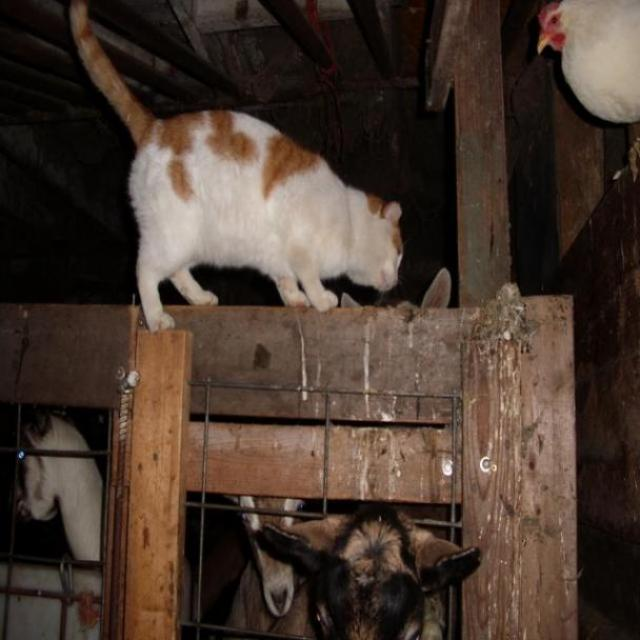Chicken: (533, 0, 636, 135)
